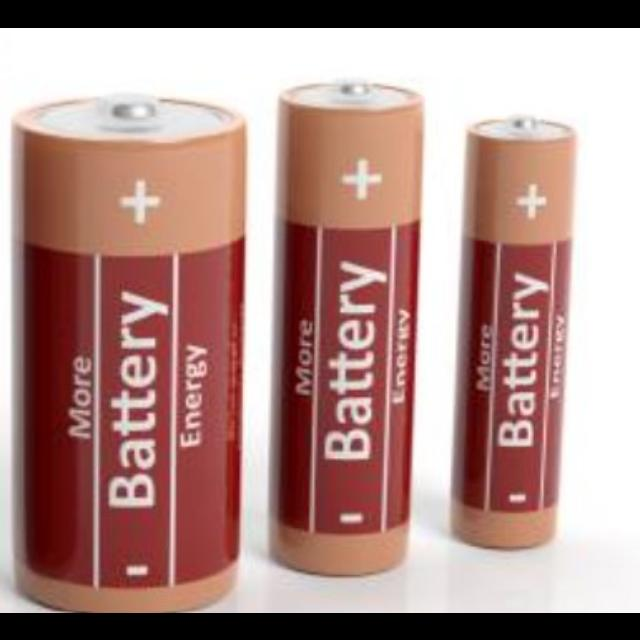Battery: (15, 93, 244, 610), (273, 84, 424, 575), (454, 117, 577, 548)
